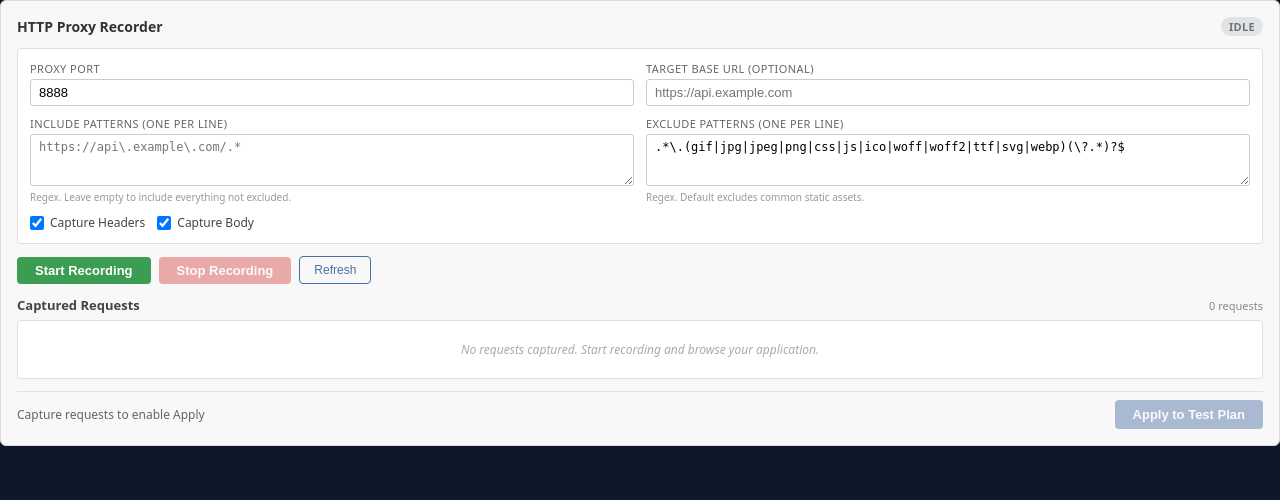
it: ProxyRecorderPanel — start recording › shows validation error when port is invalid
The width and height of the screenshot is (1280, 500).
Replace the text in the number field labelled "Proxy Port" with "99999" at (332, 92), box [30,79,634,106]
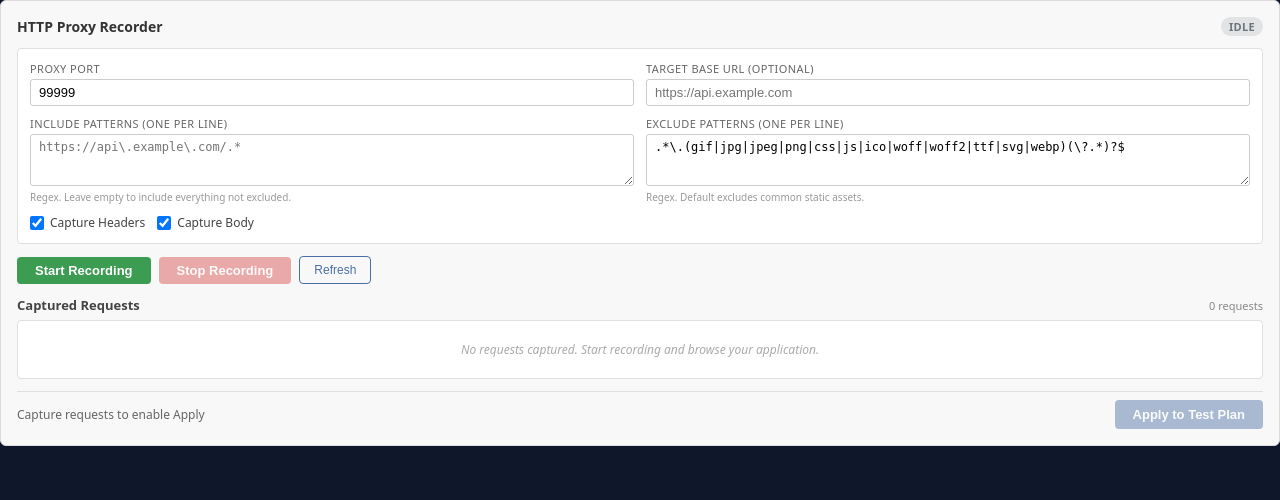
Click the button with test id "start-recording-btn".
click(84, 270)  # box [17,256,150,284]
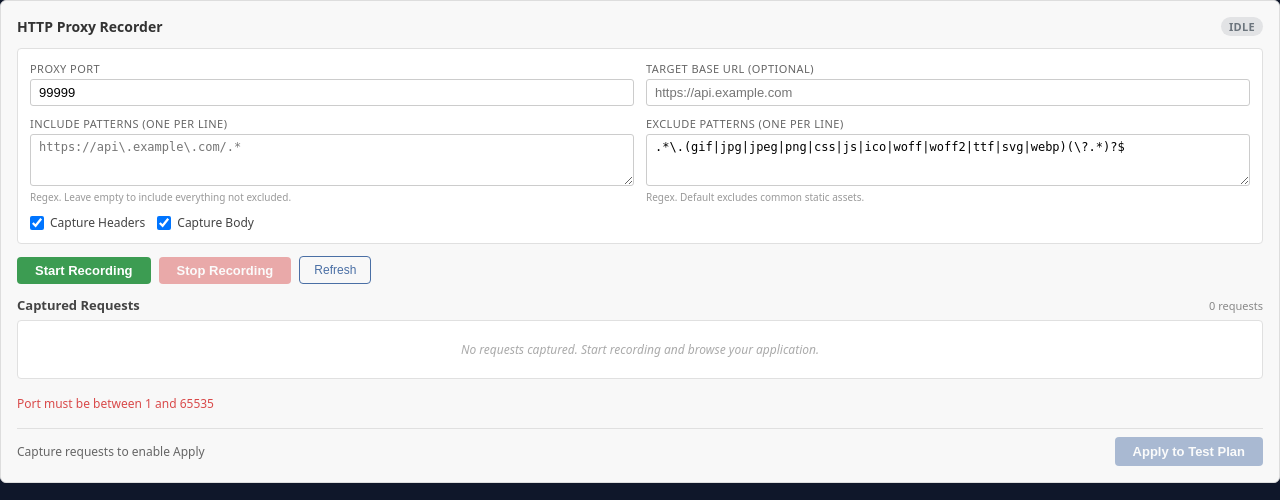
expect the message with test id "recorder-error" shows "Port must be": met, box [17,395,214,412]
